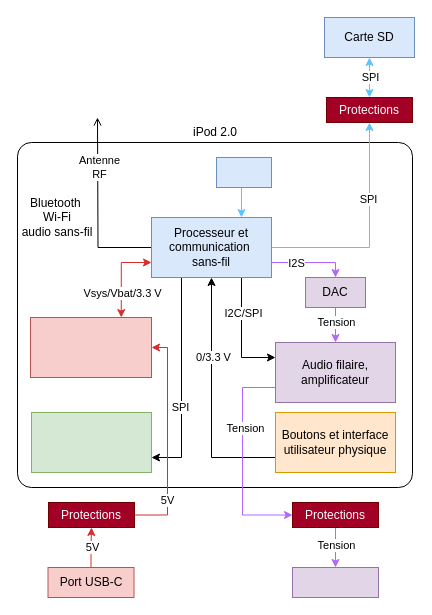
Image size: 432x615. Some labels were removed from this diagram. The shapes that lost their labels are listed below. From the top down, each one's centre as x and y in pixels, then its label:
[244,172]: RTC
[91,347]: Alimentation et batterie
[91,442]: Affichage, écran, interface utilisateur visuelle
[335,582]: Jack 3.5 mm
